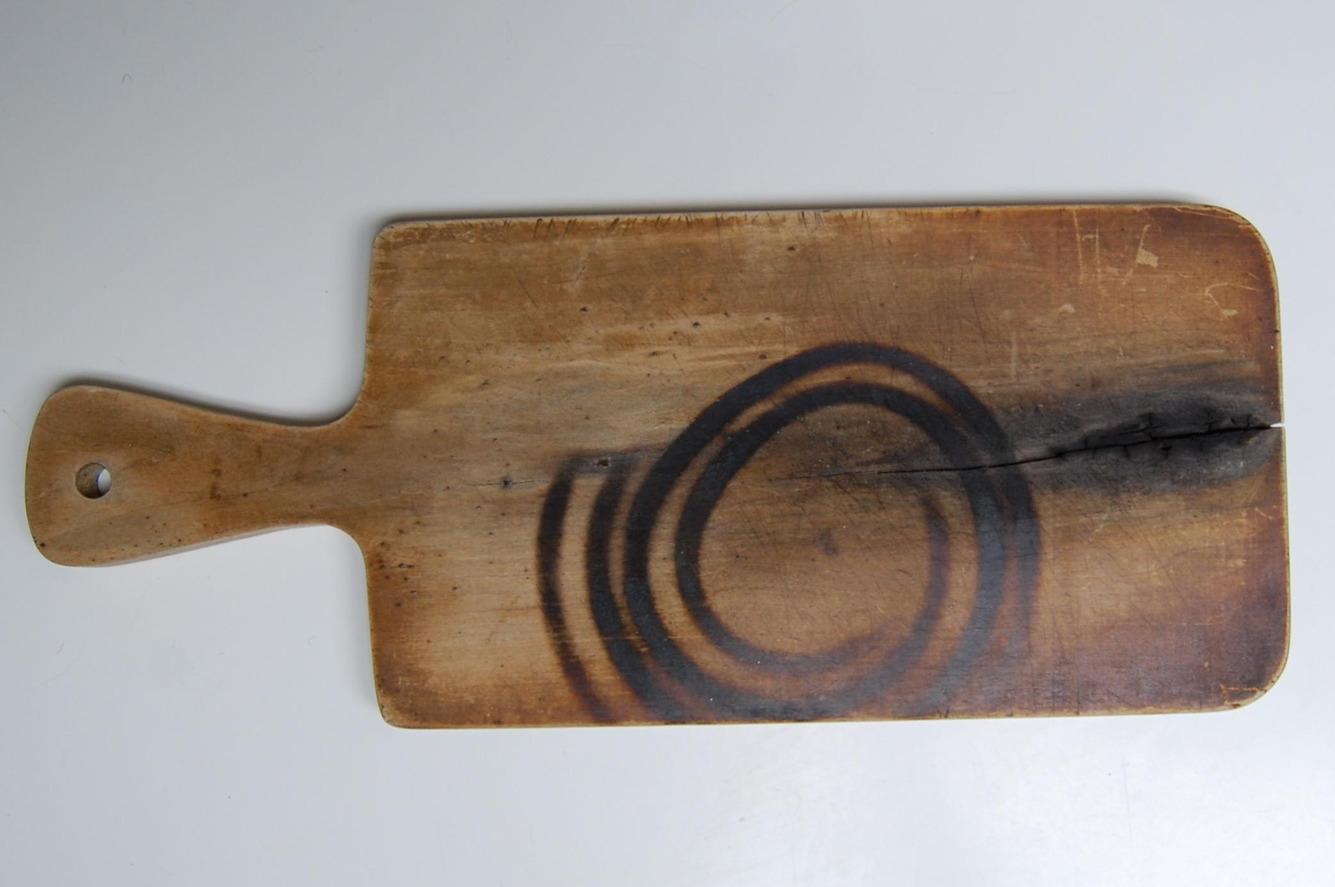gloved_hand: (22, 180, 1311, 742)
